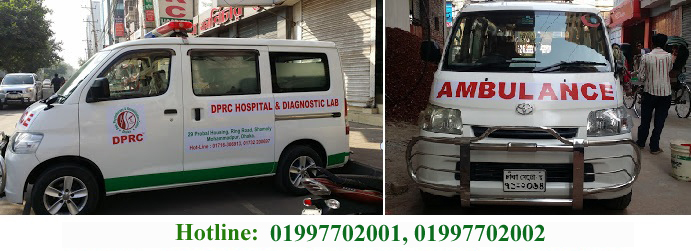ambulance: (2, 19, 352, 215), (404, 2, 639, 209)
rickshaw: (622, 33, 690, 125)
suv: (1, 67, 44, 107)
